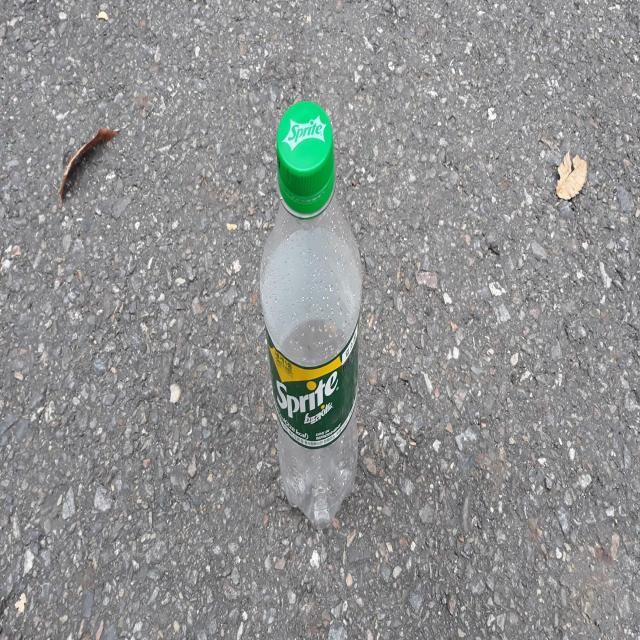plastic: (260, 100, 363, 528)
